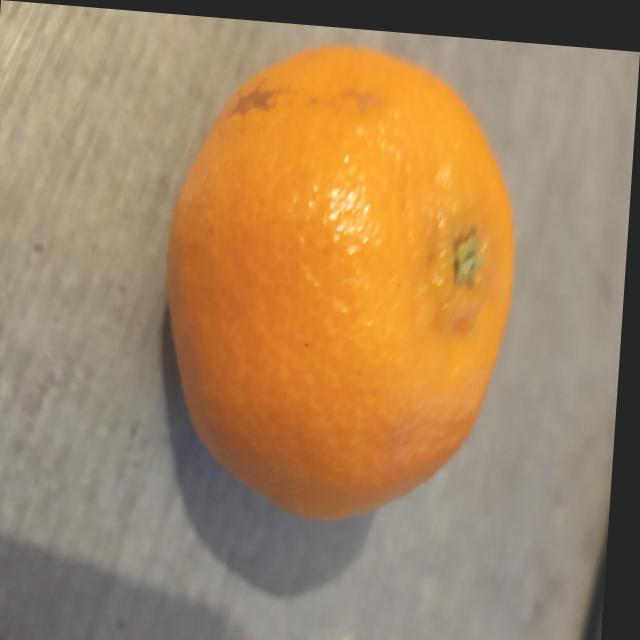Orange: (166, 36, 517, 516)
